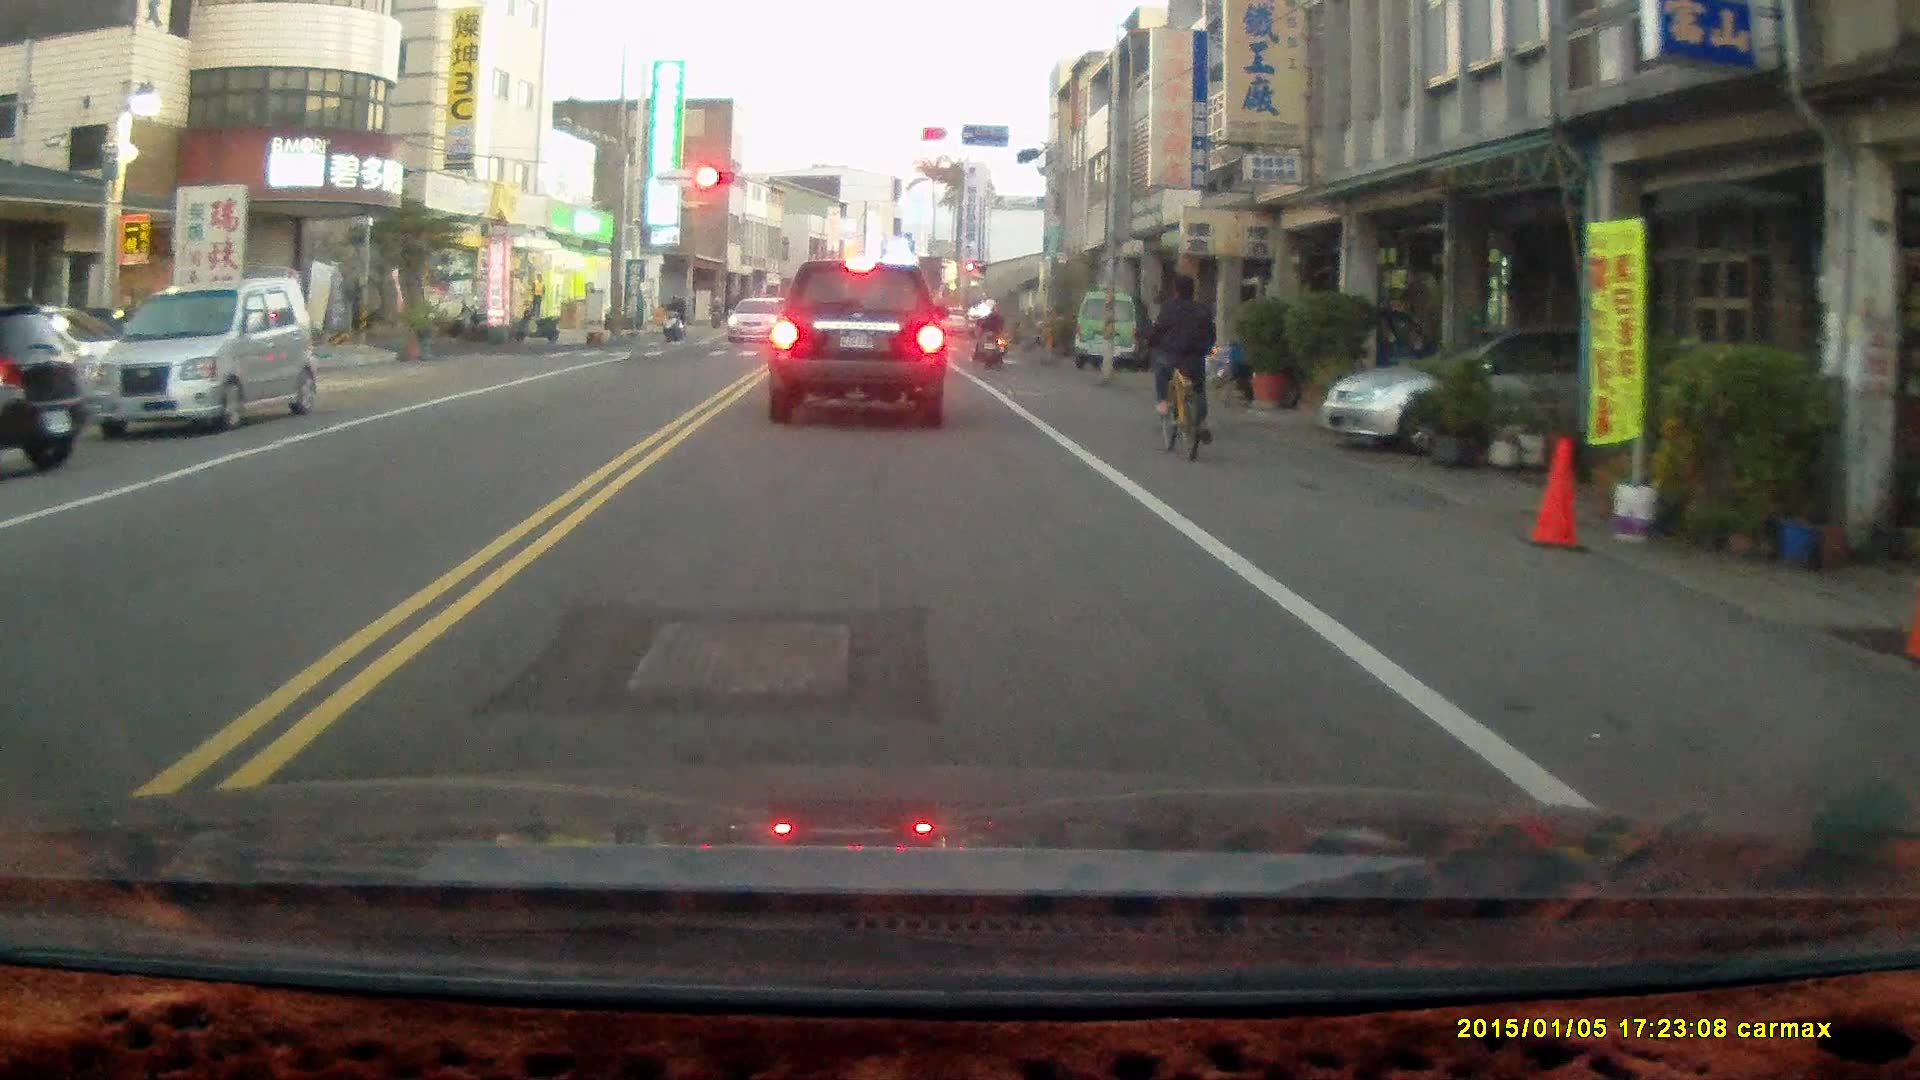pedestrian: (526, 271, 546, 318)
rider: (1144, 268, 1215, 458), (971, 296, 1010, 370), (660, 293, 687, 344)
vehicle: (1323, 318, 1711, 450), (75, 274, 323, 442), (764, 258, 951, 431), (1, 293, 89, 479), (1074, 290, 1153, 371)
